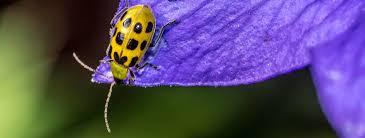insect: (70, 0, 178, 137)
